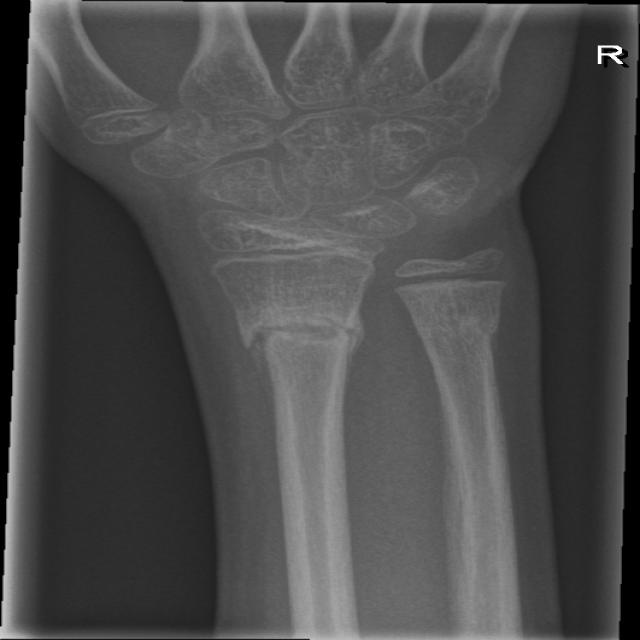radius fracture: (197, 286, 397, 454)
